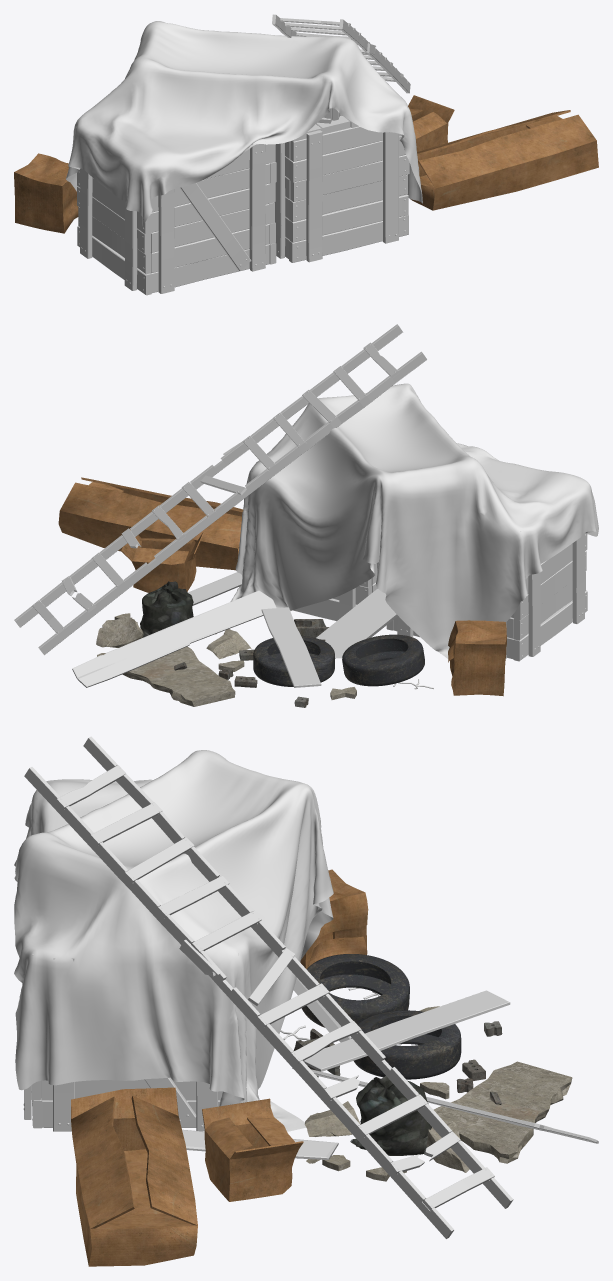
Rendered from TrashPileB.fbx.
3 renders of one model, top to bottom at view 1: azimuth 30°, elevation 25°; view 2: azimuth 150°, elevation 25°; view 3: azimuth 270°, elevation 25°, orthographic. The views are drawn at different scales.
Visible parts, largest first — view 1: TrashPileB; view 2: TrashPileB; view 3: TrashPileB.
Part boxes in pixels (<box>): TrashPileB: <box>14,14,598,295</box>; TrashPileB: <box>14,324,598,707</box>; TrashPileB: <box>14,736,598,1266</box>.
Size of the model in its own units: 3.95 by 1.83 by 2.97.
